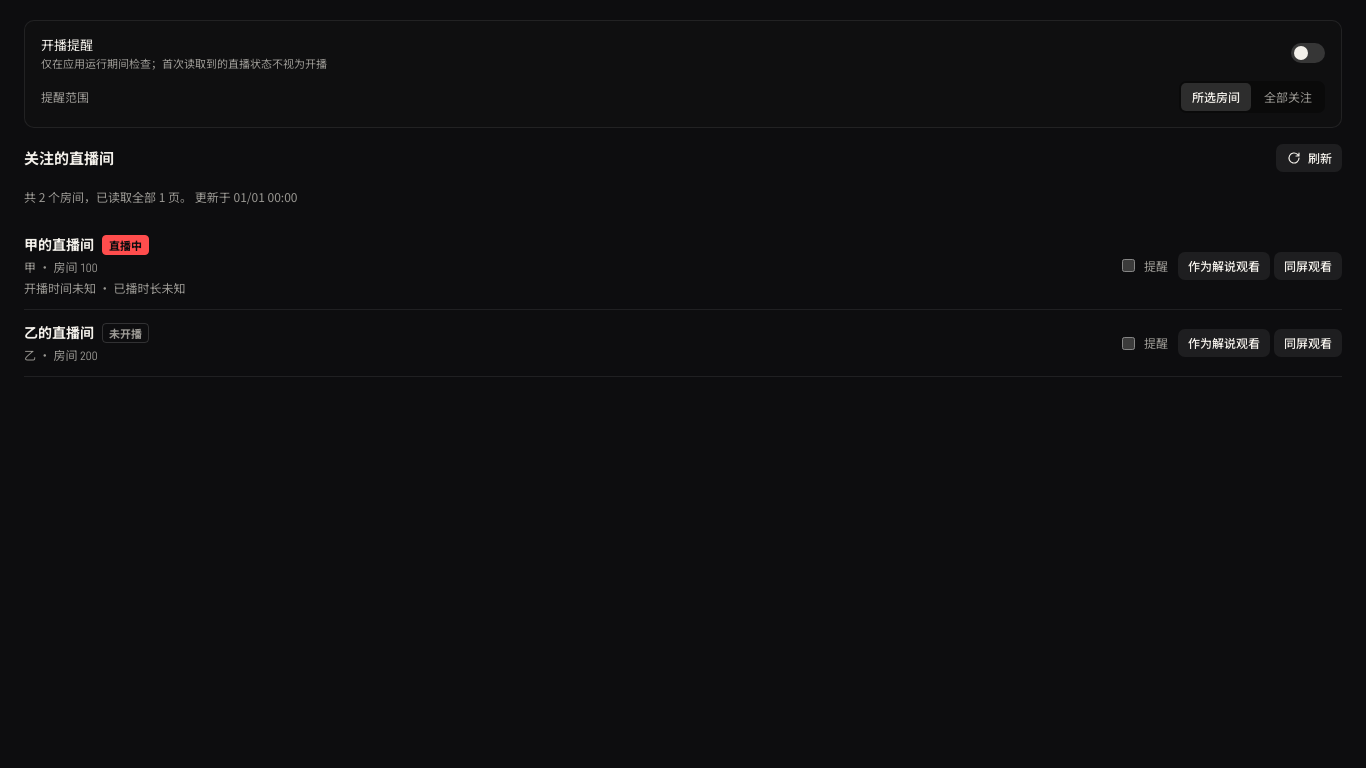
Test: live notifications › never sends an empty room choice as "every room"
Expected: the list item "甲的直播间 直播中 甲 · 房间 100 开播时间未知 · 已播时长未知 提醒 作为解说观看 同屏观看" is shown, [24, 222, 1342, 310]
Click the switch labelled "开播提醒 仅在应用运行期间检查；首次读取到的直播状态不视为开播": (67,44) [41, 35, 1325, 71]
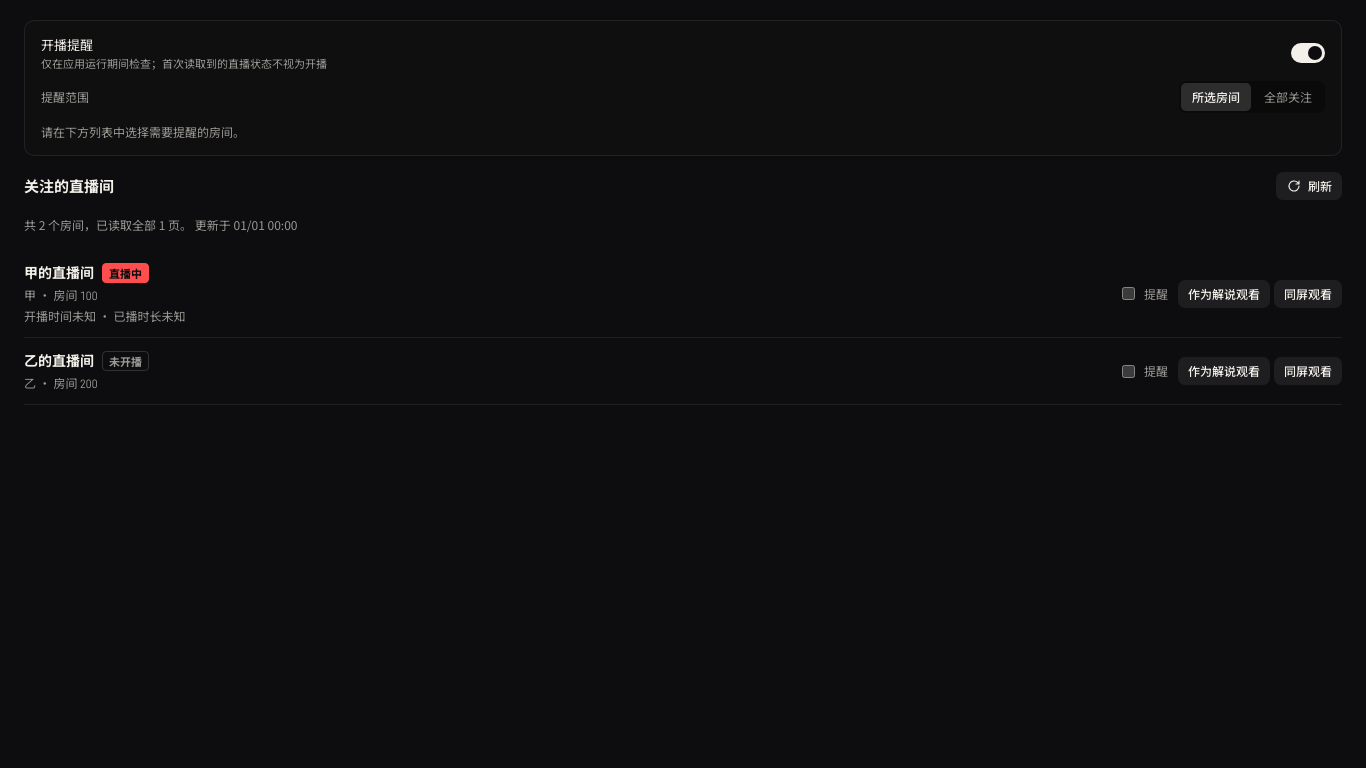
Now the text "请在下方列表中选择需要提醒的房间。" is shown, box [41, 123, 245, 140]
